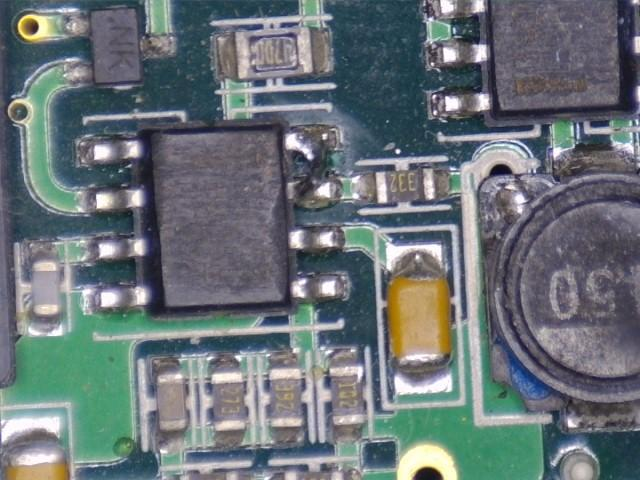Short_circuit: (286, 126, 343, 209)
